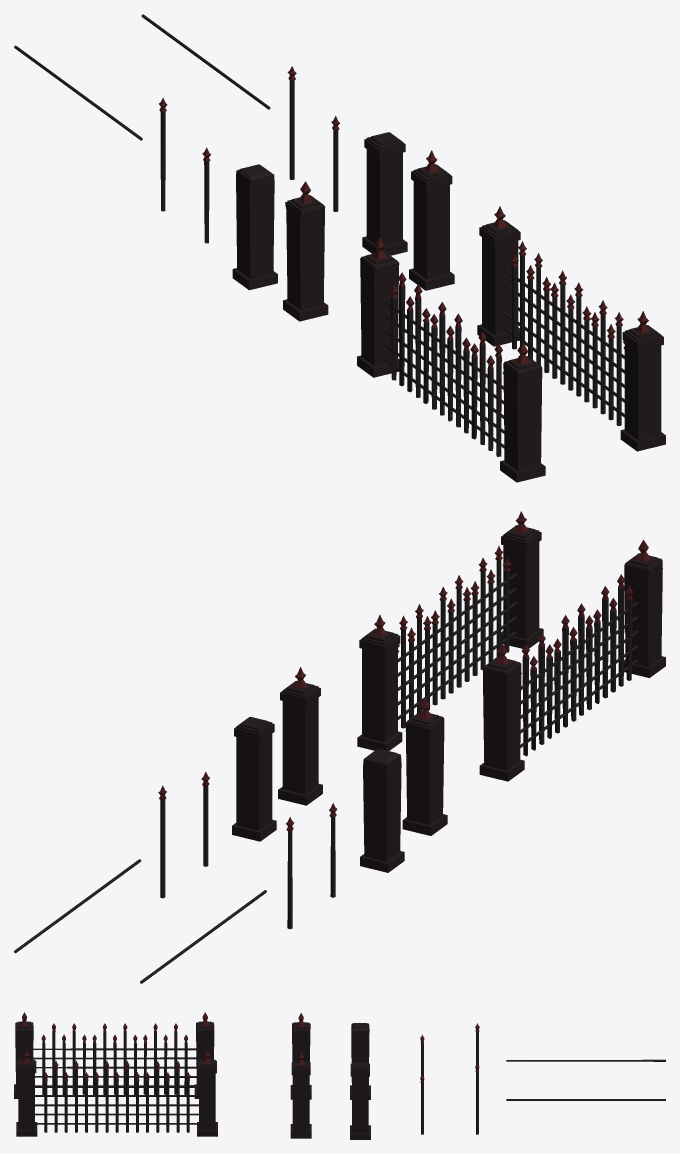
File: MetalFenceCollection.fbx
3 views of the same model, one above another, from view 1: azimuth 30°, elevation 25°; view 2: azimuth 150°, elevation 25°; view 3: azimuth 270°, elevation 25° (orthographic). The views are drawn at different scales.
Visible parts, largest first — view 1: Metal_fence_optimized, Metal_fence_complete, Metal_stone_pillar_with_spike_opt, Metal_stone_pillar_with_spike, Metal_stone_pillar_opt, Metal_stone_pillar, Metal_long_vert_pipe; view 2: Metal_fence_optimized, Metal_fence_complete, Metal_stone_pillar_with_spike_opt, Metal_stone_pillar_with_spike, Metal_stone_pillar_opt, Metal_stone_pillar; view 3: Metal_fence_complete, Metal_fence_optimized, Metal_stone_pillar_with_spike, Metal_stone_pillar, Metal_stone_pillar_opt, Metal_stone_pillar_with_spike_opt, Metal_horizontal_pipe_opt, Metal_horizontal_pipe, Metal_long_vert_pipe.
Boxes of the visible parts, x1,y1,x2,y2 form: Metal_fence_optimized: (357, 237, 545, 482); Metal_fence_complete: (477, 206, 665, 451); Metal_stone_pillar_with_spike_opt: (283, 181, 328, 321); Metal_stone_pillar_with_spike: (409, 150, 454, 290); Metal_stone_pillar_opt: (232, 164, 277, 290); Metal_stone_pillar: (362, 132, 407, 255); Metal_long_vert_pipe: (287, 66, 296, 179); Metal_fence_optimized: (479, 540, 665, 781); Metal_fence_complete: (357, 511, 543, 750); Metal_stone_pillar_with_spike_opt: (402, 697, 447, 835); Metal_stone_pillar_with_spike: (278, 667, 322, 805); Metal_stone_pillar_opt: (360, 748, 404, 872); Metal_stone_pillar: (232, 717, 276, 841); Metal_fence_complete: (16, 1049, 217, 1136); Metal_fence_optimized: (14, 1012, 214, 1098); Metal_stone_pillar_with_spike: (290, 1051, 311, 1138); Metal_stone_pillar: (350, 1062, 370, 1139); Metal_stone_pillar_opt: (350, 1023, 370, 1099); Metal_stone_pillar_with_spike_opt: (290, 1013, 311, 1099); Metal_horizontal_pipe_opt: (506, 1059, 665, 1061); Metal_horizontal_pipe: (506, 1099, 665, 1100); Metal_long_vert_pipe: (475, 1063, 479, 1134).
Size of the model in its own units: 852 by 4813 by 684.
